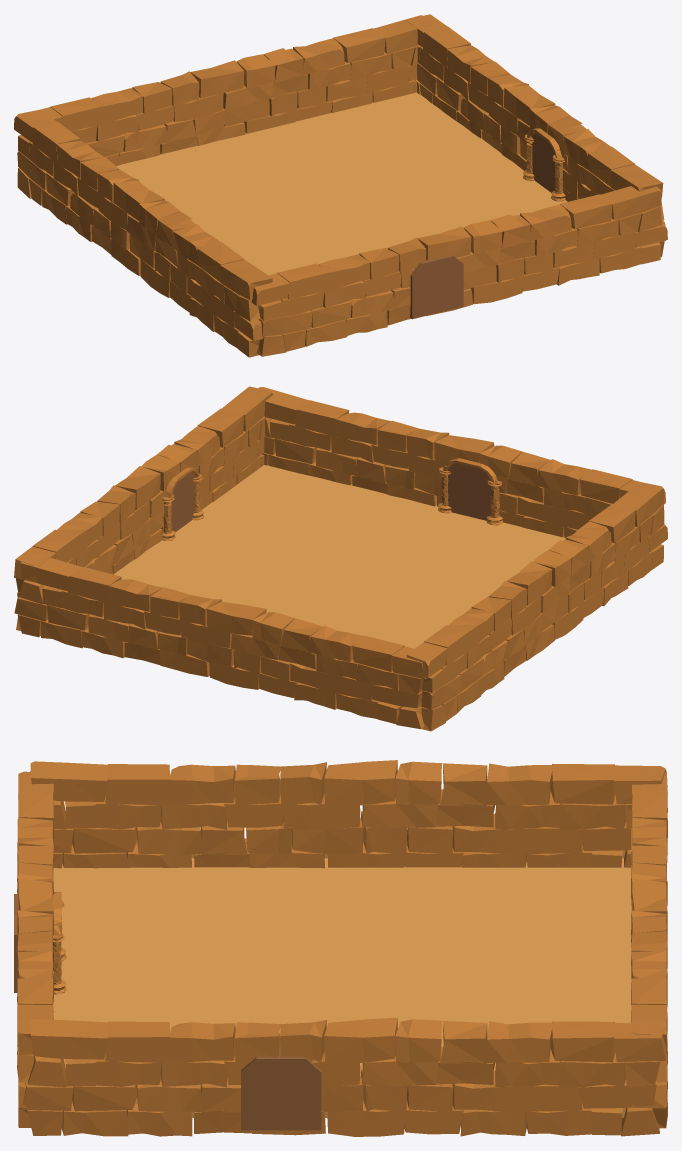
3 views of the same model, one above another, from view 1: azimuth 30°, elevation 25°; view 2: azimuth 150°, elevation 25°; view 3: azimuth 270°, elevation 25° (orthographic). The views are drawn at different scales.
Visible parts, largest first — view 1: Cube.003; view 2: Cube.003; view 3: Cube.003.
Part boxes in pixels (x1=…): Cube.003: x1=14, y1=14, x2=667, y2=357; Cube.003: x1=14, y1=386, x2=667, y2=731; Cube.003: x1=14, y1=760, x2=667, y2=1136.
Size of the model in its own units: 12.86 by 2.26 by 12.91.
